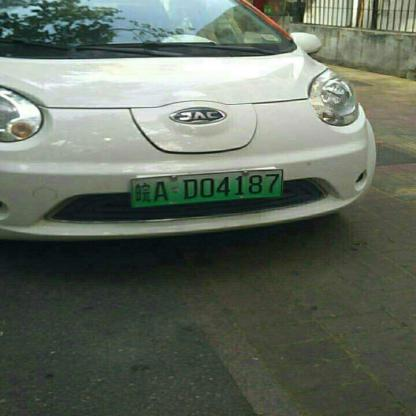lp: (130, 169, 281, 208)
